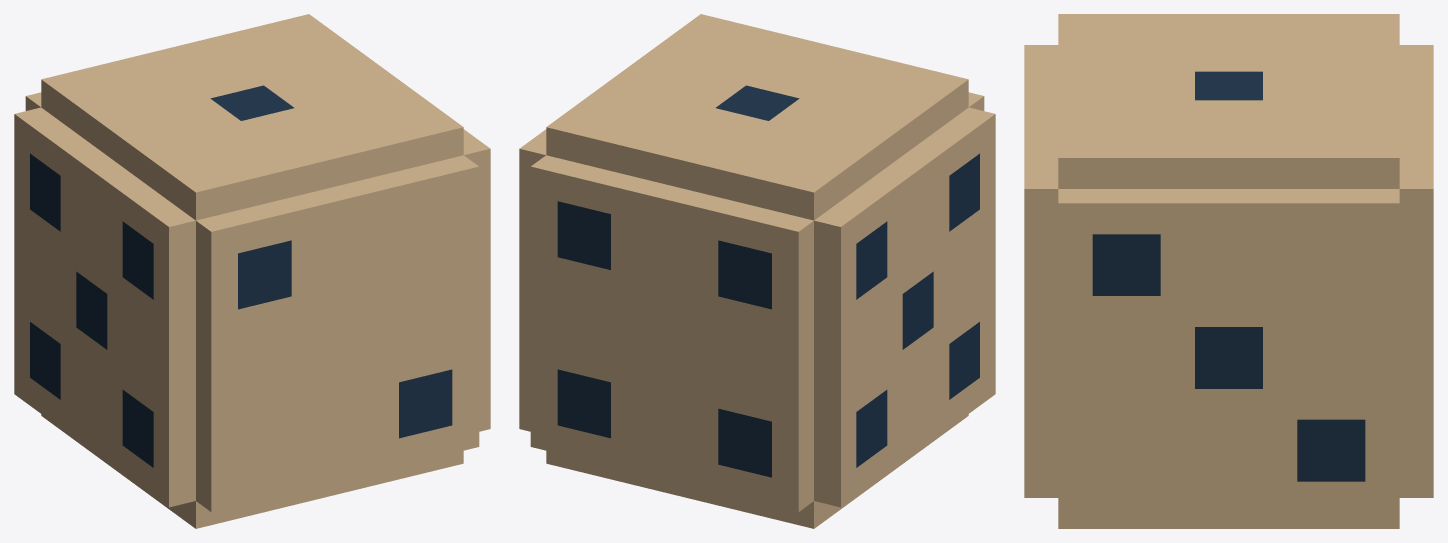
Rendered from dice-v1-tan-blue.gltf.
3 renders of one model, left to right at view 1: azimuth 30°, elevation 25°; view 2: azimuth 150°, elevation 25°; view 3: azimuth 270°, elevation 25°, orthographic. The views are drawn at different scales.
Parts seen in each view (by area): view 1: Untitled; view 2: Untitled; view 3: Untitled.
Part boxes in pixels (x1,y1,x2,y2): Untitled: (14,14,490,528); Untitled: (519,14,995,528); Untitled: (1024,14,1433,528).
Bounding box in the file's own units: 1.2 × 1.2 × 1.2.
1 material, 1 textured.
